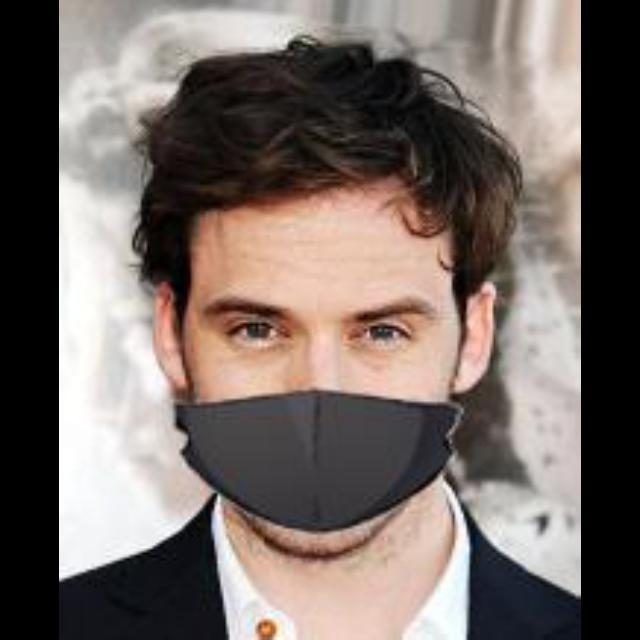suspicion: (140, 109, 500, 525)
